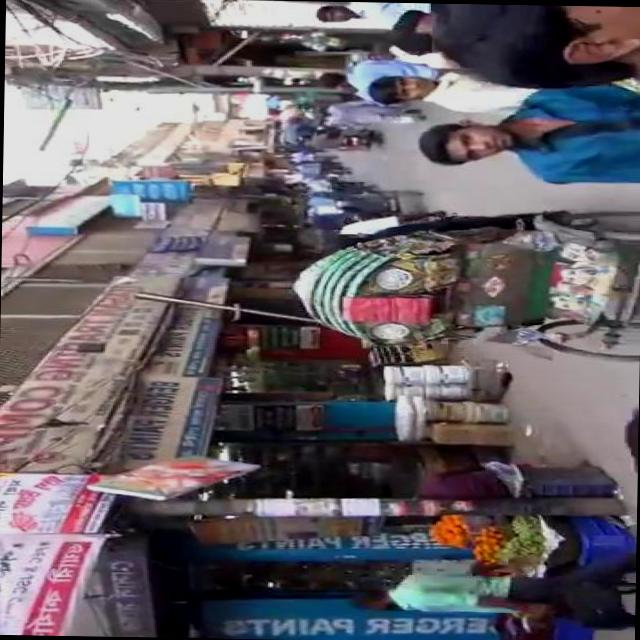motorcycle: (286, 194, 639, 360), (286, 184, 426, 230), (294, 124, 378, 149)
